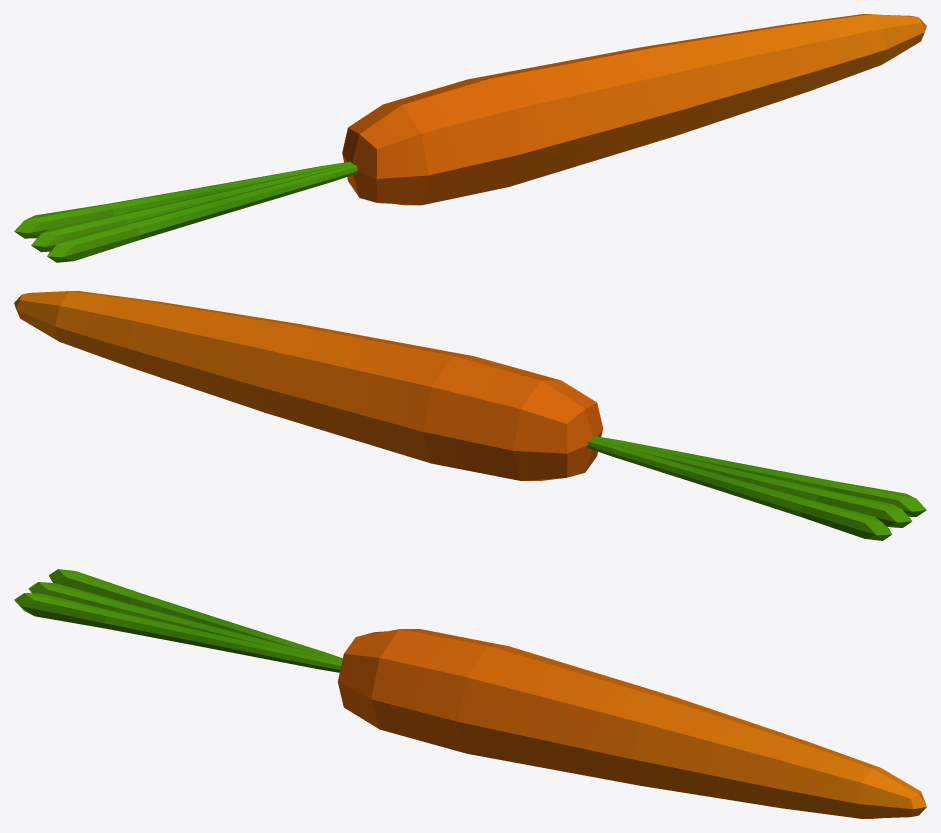
The model's file is carrot_1.fbx.
The picture shows the model from 3 angles, top to bottom: view 1: azimuth 30°, elevation 25°; view 2: azimuth 150°, elevation 25°; view 3: azimuth 330°, elevation 25°; orthographic projection.
Visible parts, largest first — view 1: carrot_1; view 2: carrot_1; view 3: carrot_1.
Part boxes in pixels (box(x1,y1,x2,y2)): carrot_1: box(14, 14, 926, 262); carrot_1: box(14, 291, 926, 540); carrot_1: box(14, 569, 926, 818).
Bounding box in the file's own units: 0.3999 × 0.0461 × 0.0461.
